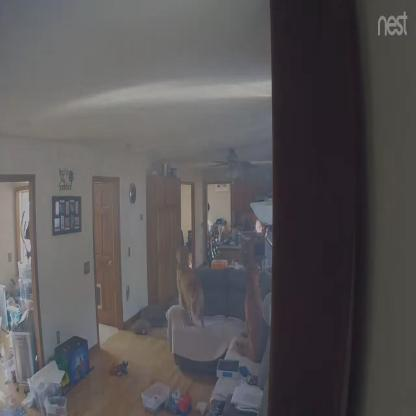fire: (256, 219, 262, 233)
